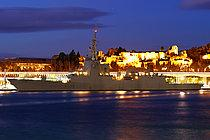MIL_Ship: (6, 33, 205, 94)
